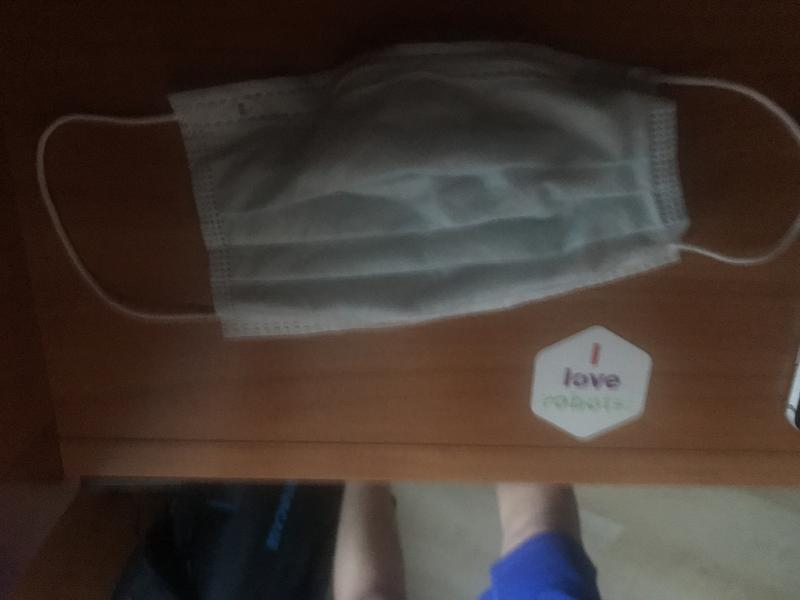medical_mask: (34, 43, 800, 323)
